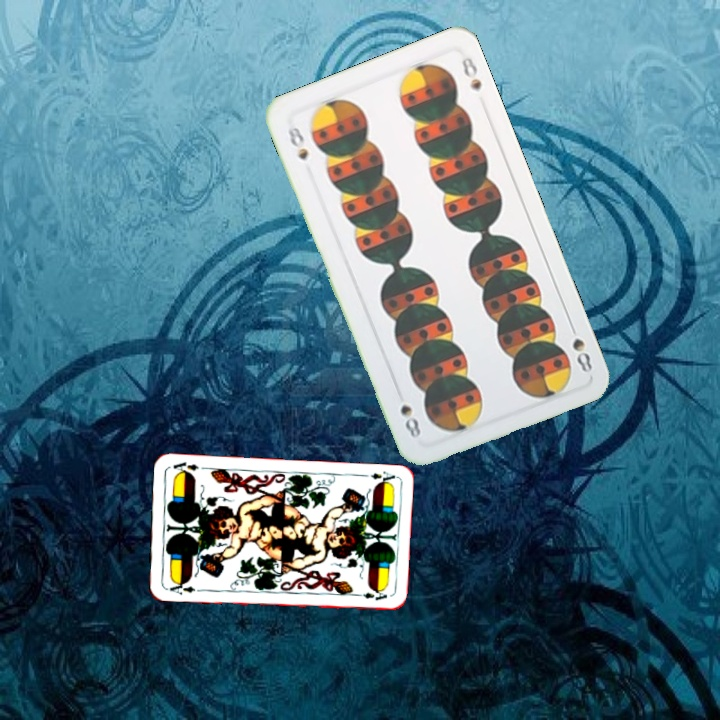EA: (162, 577, 203, 597), (357, 467, 398, 487)
S8: (565, 318, 595, 376), (283, 118, 311, 163)
